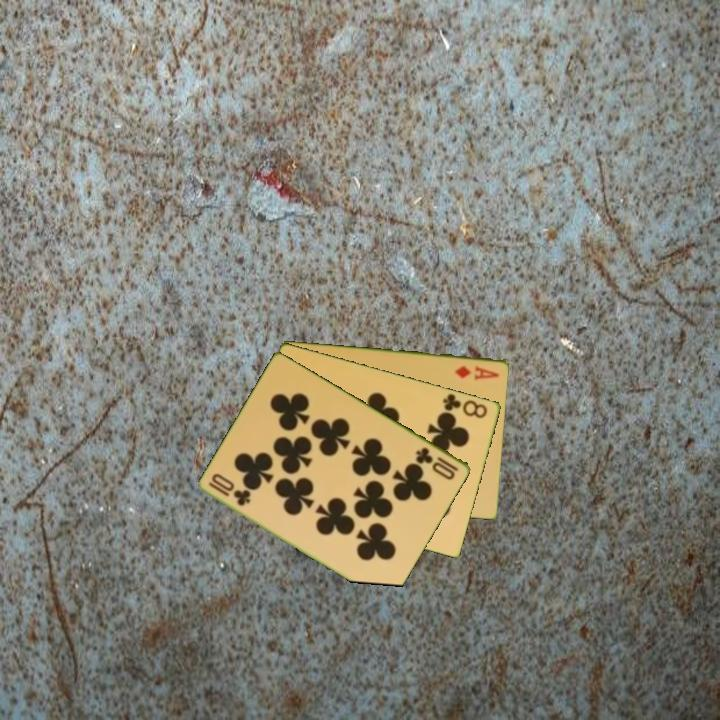10c: (412, 443, 462, 483), (205, 470, 254, 509)
8c: (439, 390, 491, 421)
Ad: (451, 362, 502, 382)
